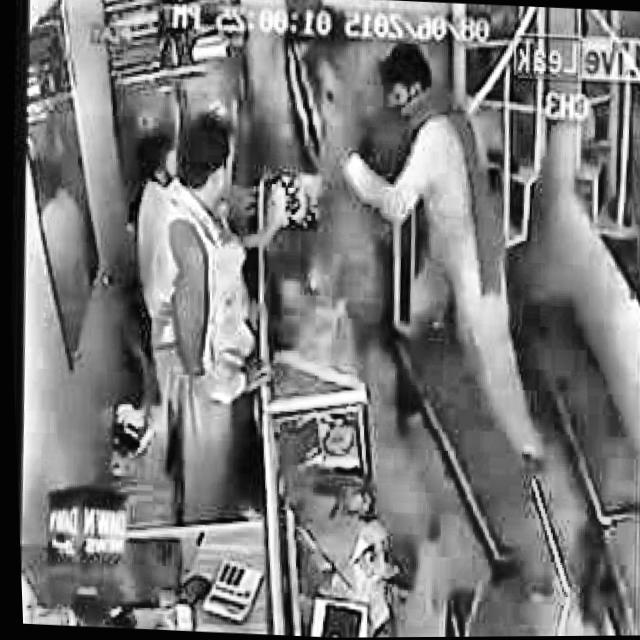robbery: (308, 33, 569, 476)
